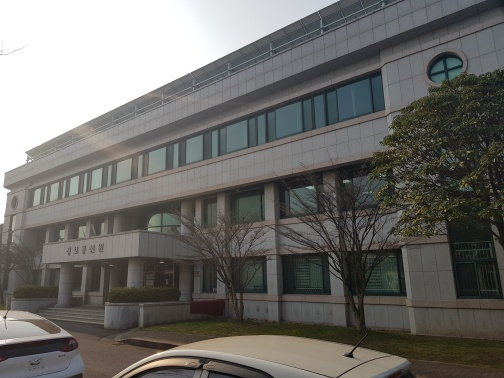Information Telecommunication Center: (15, 22, 498, 313), (171, 52, 496, 307), (55, 230, 115, 264)
